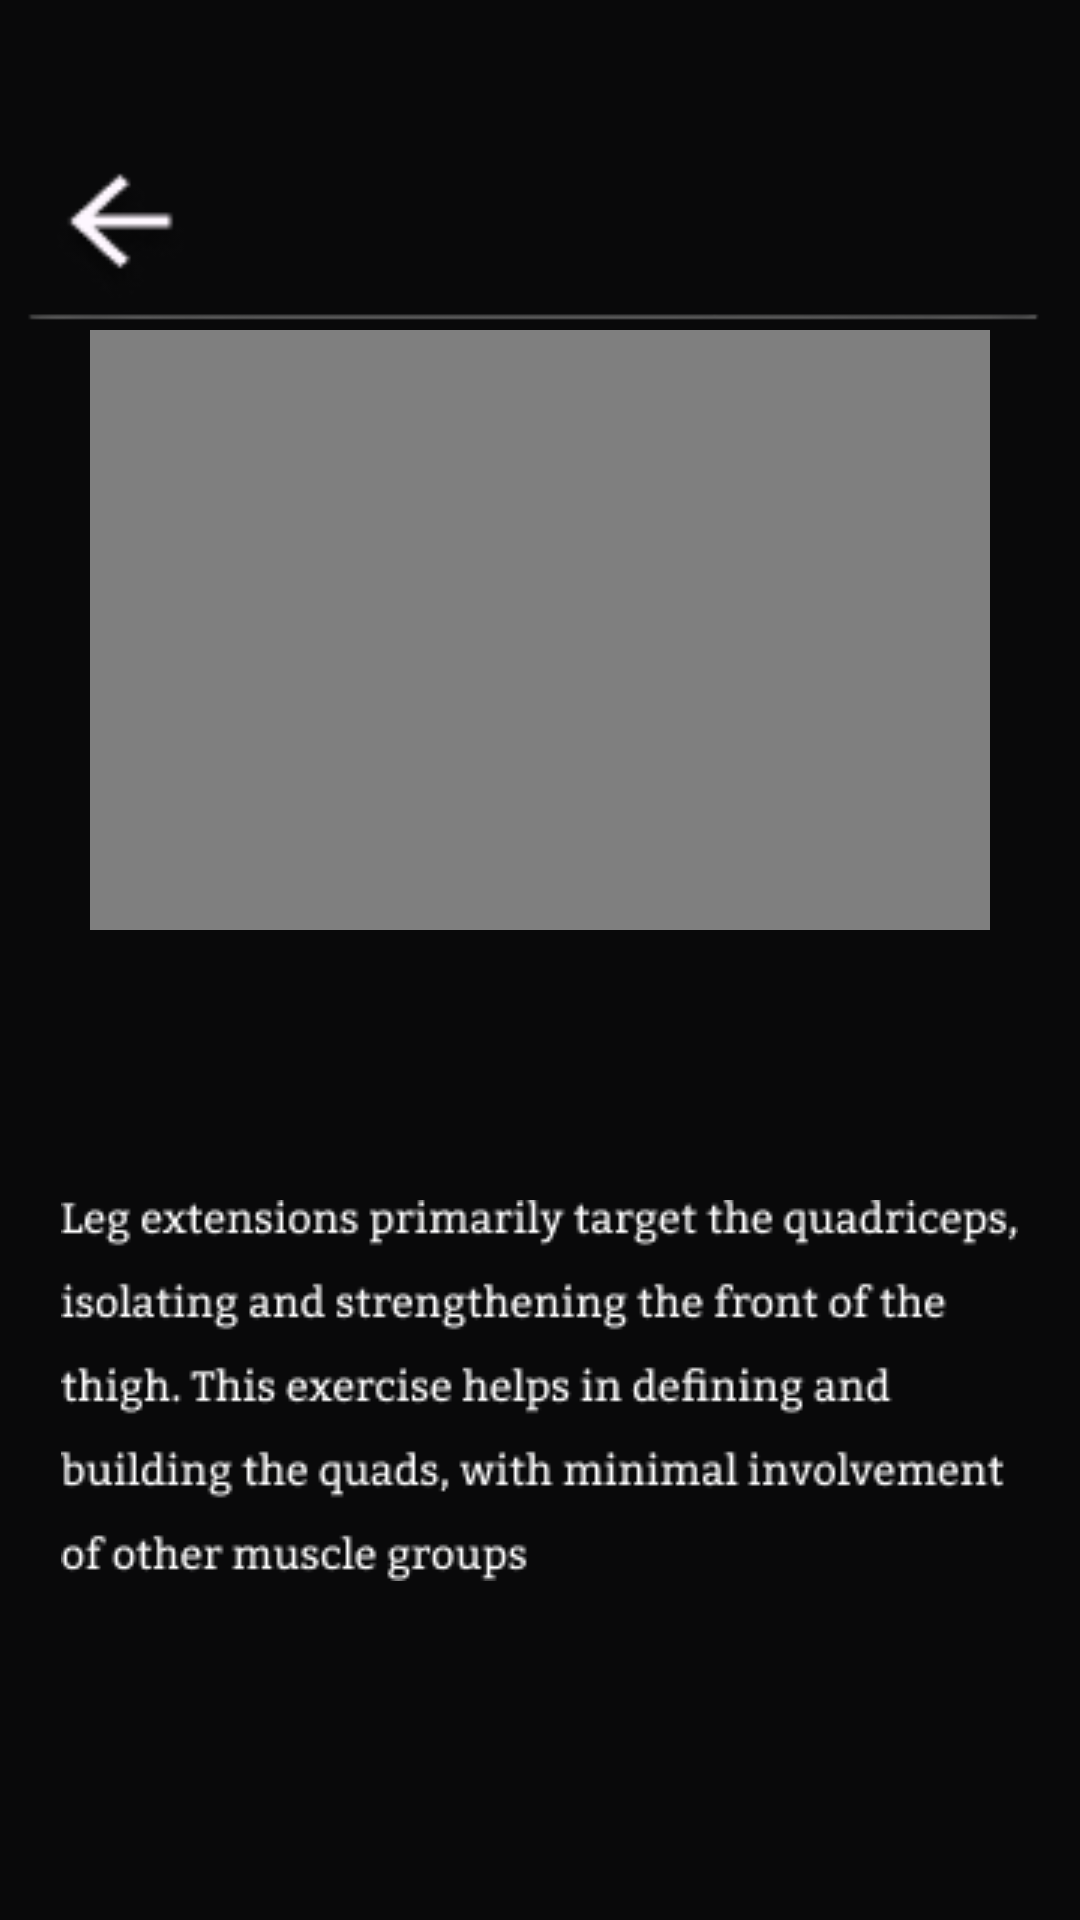

Named icons in this screenshot (1080×1920) and their centers, (x=x, y=y):
whiteback: (x=121, y=221)
